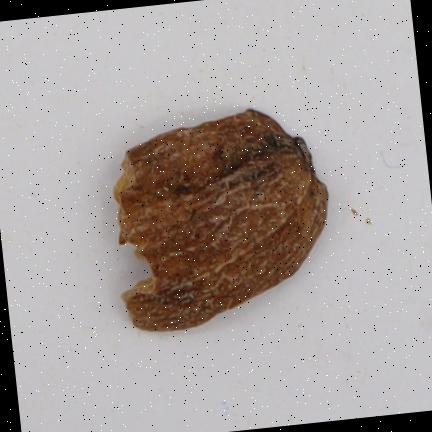full-black: (114, 110, 328, 331)
